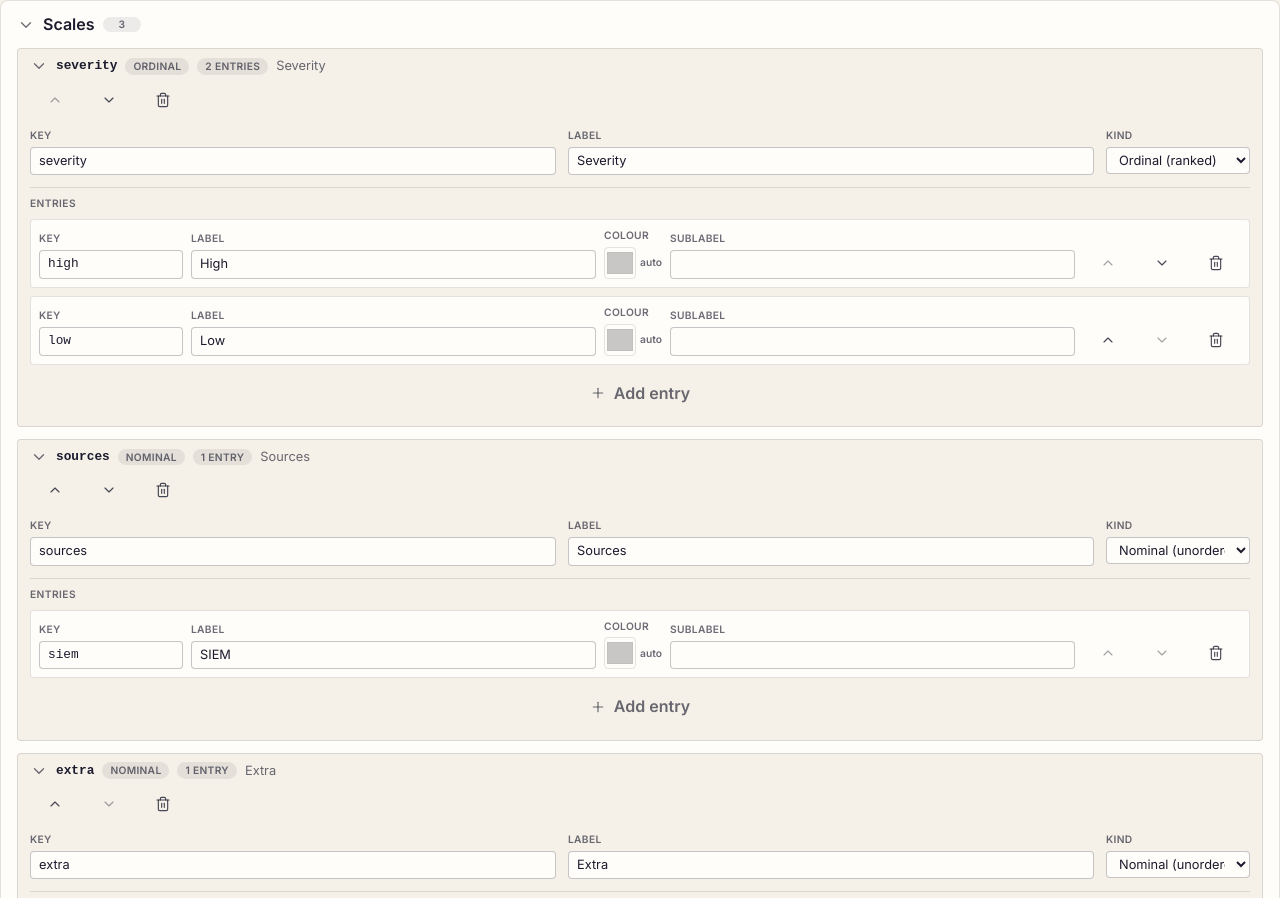
ScalesEditor › blocks deleting a referenced scale and keeps it
The width and height of the screenshot is (1280, 898).
What coordinates should you click on to do the following:
click the button named "Delete scale" below "ordinal"
I would click on:
 (163, 100)
Its box is [138,84,188,116].
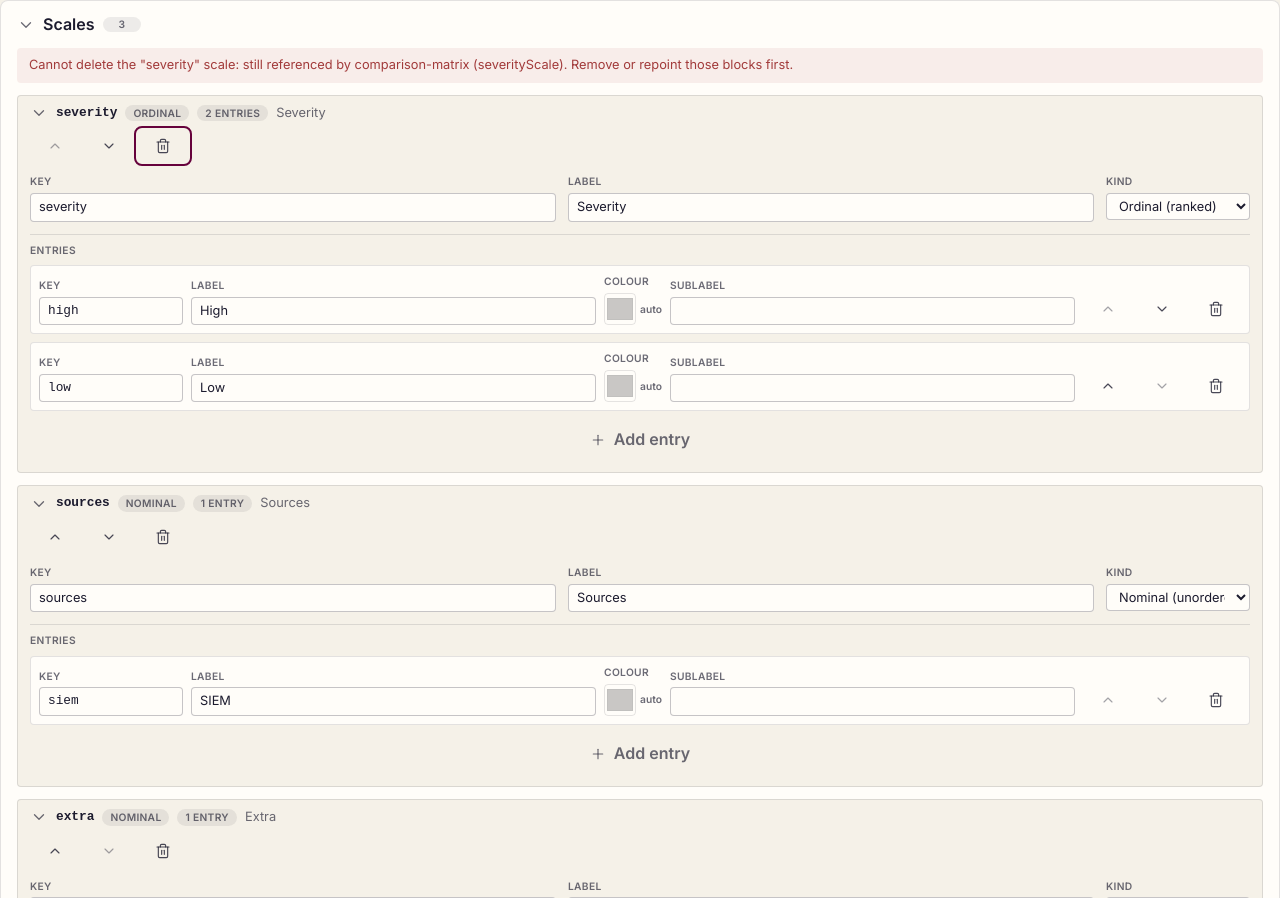
Check: the message shows "severity", box [29,57,793,72]
Check: the message is shown, box [17,48,1263,83]
